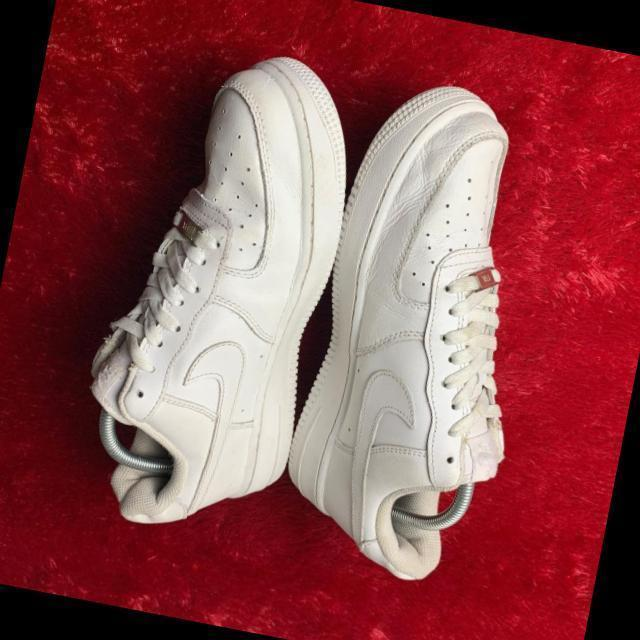nike fake air force: (60, 28, 367, 548), (276, 73, 580, 592)
